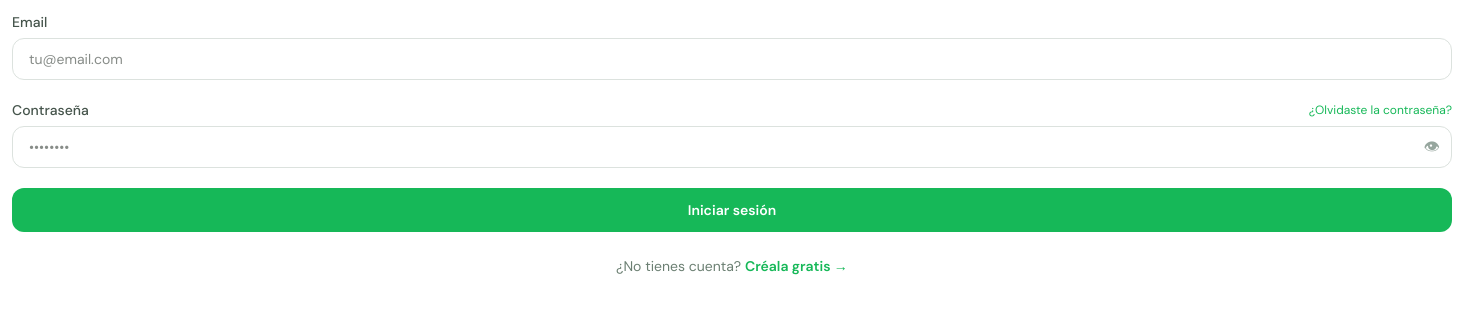
it: LoginForm (LoginPage) › muestra errores de validación si se hace submit con los campos vacíos
Click the button "Iniciar sesión".
click(732, 210)  # box [12,188,1452,232]
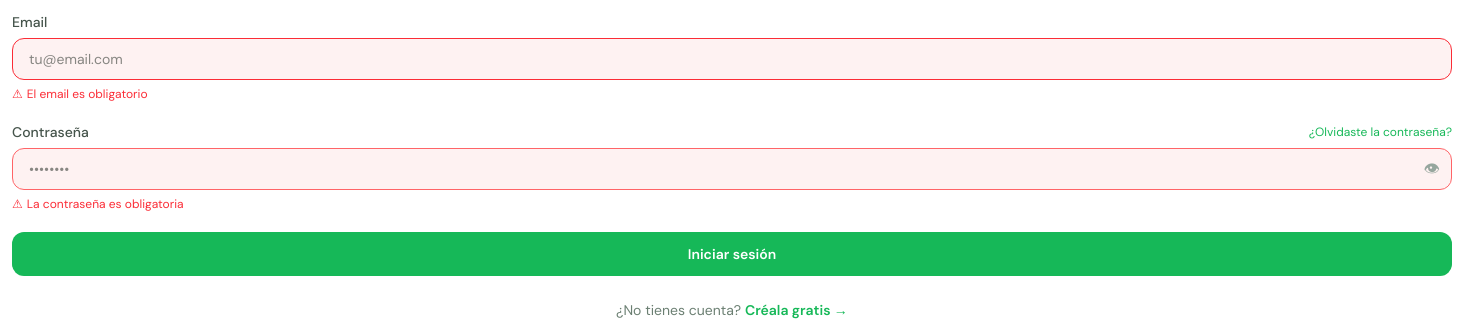
expect the text "⚠ El email es obligatorio" is shown: met, box [12,86,148,102]
expect the text "⚠ La contraseña es obligatoria" is shown: met, box [12,196,184,212]
